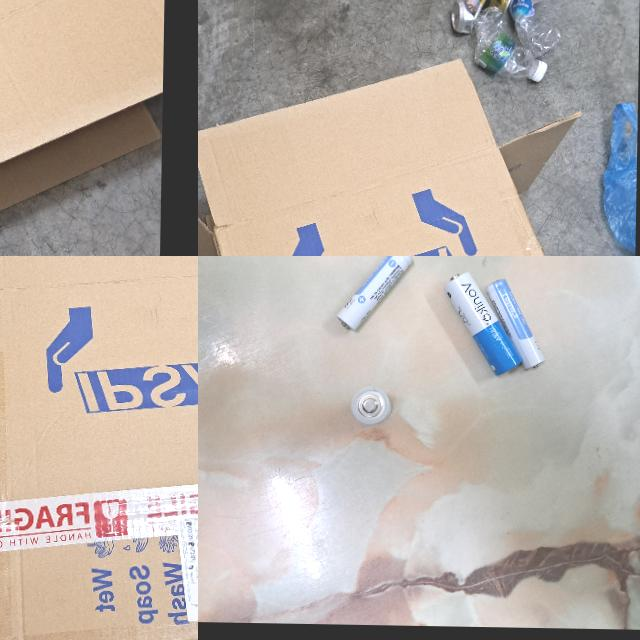bateria: (441, 270, 525, 376), (336, 256, 412, 331), (482, 277, 544, 368), (349, 386, 392, 426)
garrafa plástica: (472, 6, 536, 78), (510, 0, 561, 60)
lata: (451, 0, 513, 33)
papelão: (198, 53, 638, 256), (0, 256, 198, 640), (0, 0, 170, 256)
sacola plástica: (597, 103, 638, 256)
tampa plástica: (532, 60, 548, 81)
